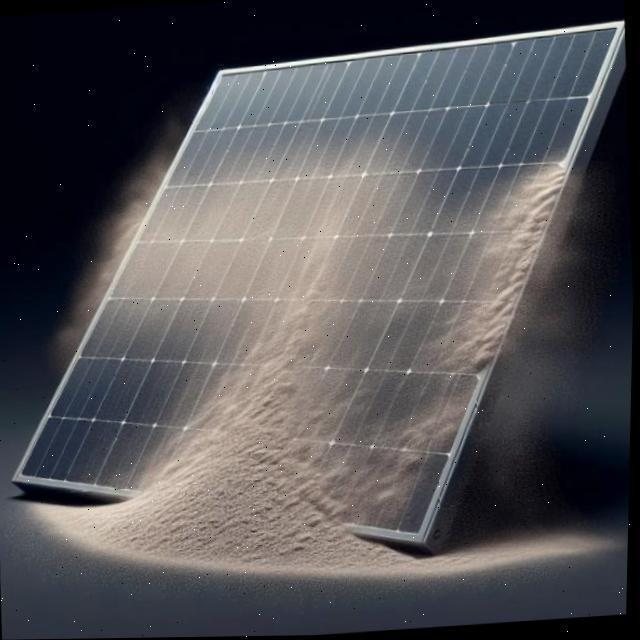Surface Contaminant: (62, 86, 569, 559)
